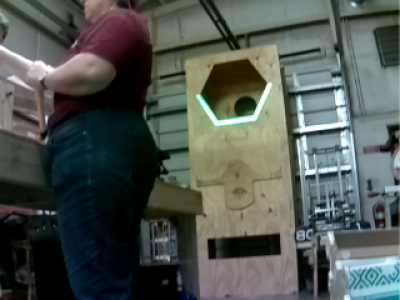target: (194, 82, 275, 125)
